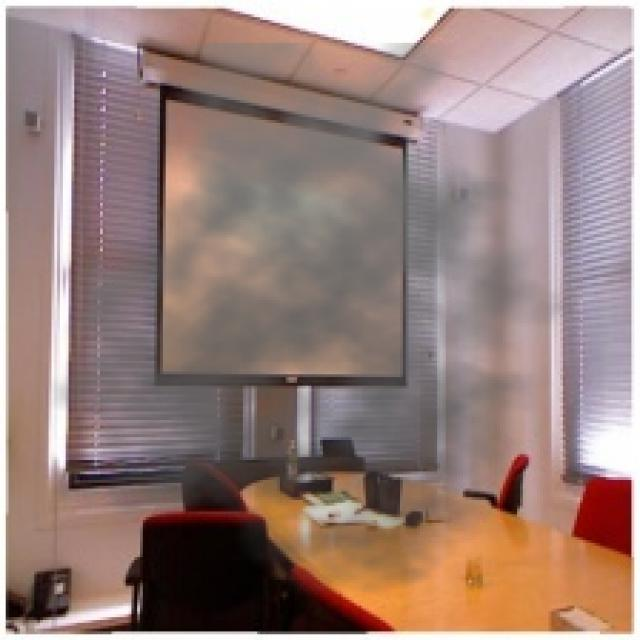smoke: (46, 43, 600, 597)
